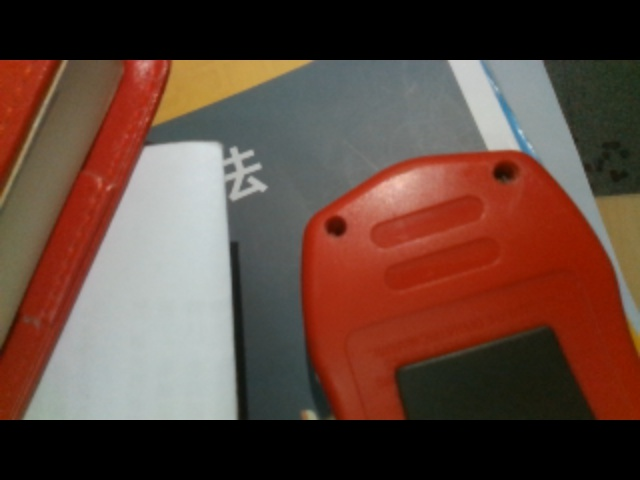Screw holes: (492, 156, 522, 190), (323, 213, 350, 238)
